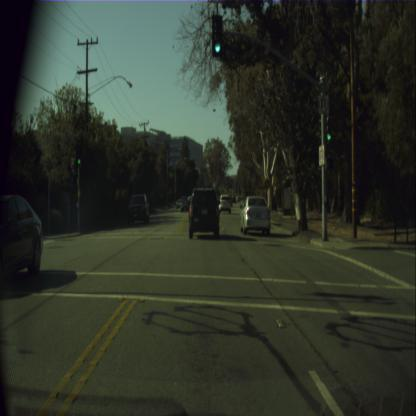Green: (212, 15, 223, 56), (326, 116, 331, 142), (77, 146, 81, 164)
